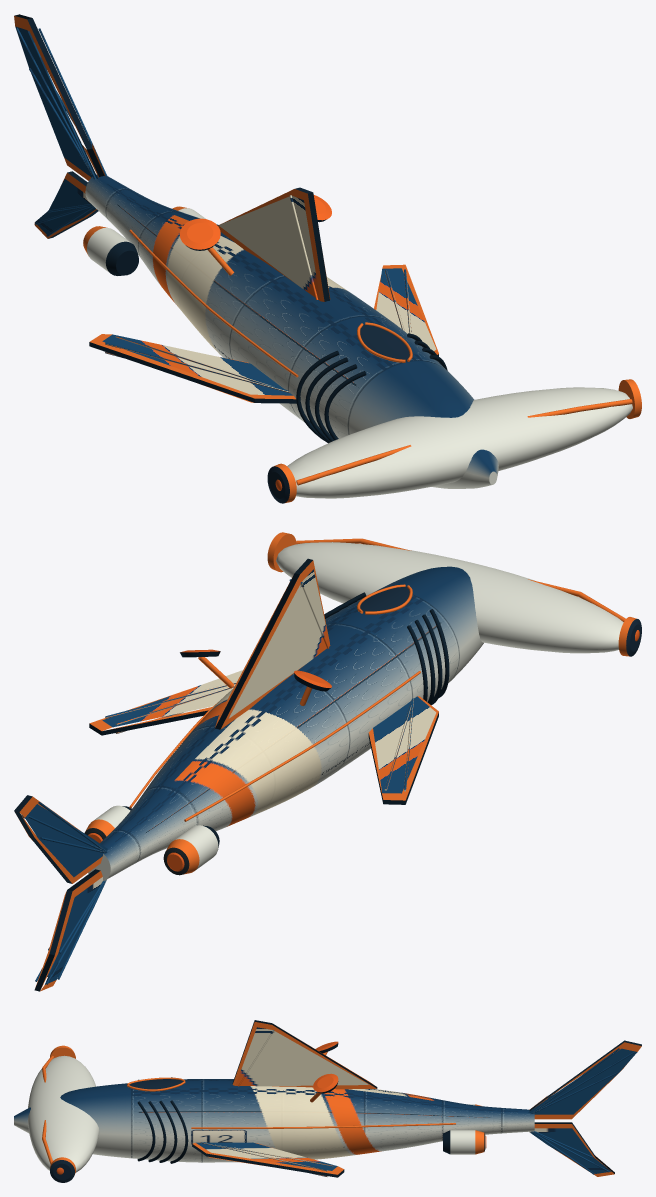
The picture shows the model from 3 angles, top to bottom: view 1: azimuth 30°, elevation 25°; view 2: azimuth 150°, elevation 25°; view 3: azimuth 270°, elevation 25°; orthographic projection. The views are drawn at different scales.
Parts seen in each view (by area): view 1: hammerhead_hull; view 2: hammerhead_hull; view 3: hammerhead_hull.
Boxes of the visible parts, bbox=[...] form: hammerhead_hull: bbox=[14, 14, 641, 503]; hammerhead_hull: bbox=[14, 532, 641, 991]; hammerhead_hull: bbox=[14, 1020, 641, 1182].
Size of the model in its own units: 34.14 by 21.29 by 78.
Materials: 1 (1 with a texture image).
